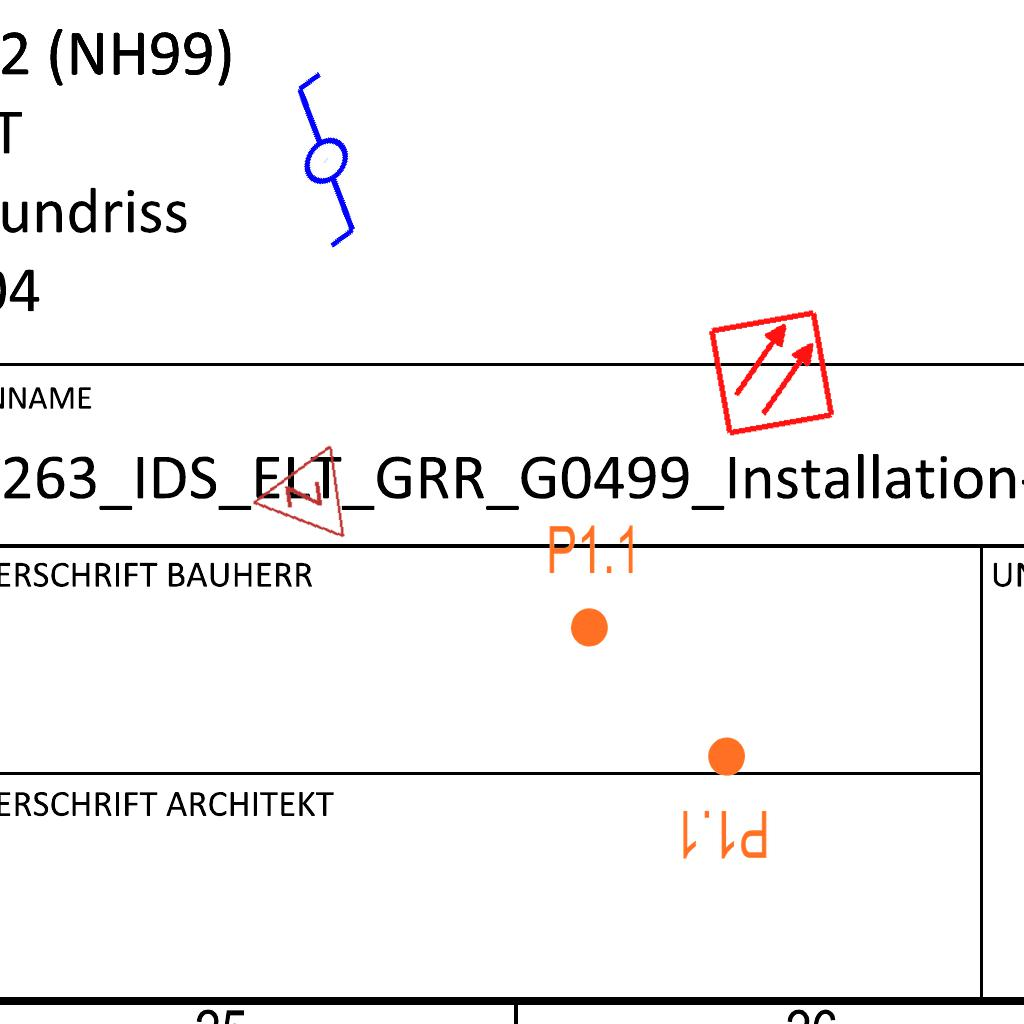Downlight_LED_Einbauleuchten_Flur: (677, 734, 770, 862), (546, 522, 639, 650)
RMO_Rauchmelder_optischer: (706, 307, 837, 438)
Wechselschalter: (214, 59, 425, 273)
Zimmersignalleuchte: (239, 442, 353, 554)
